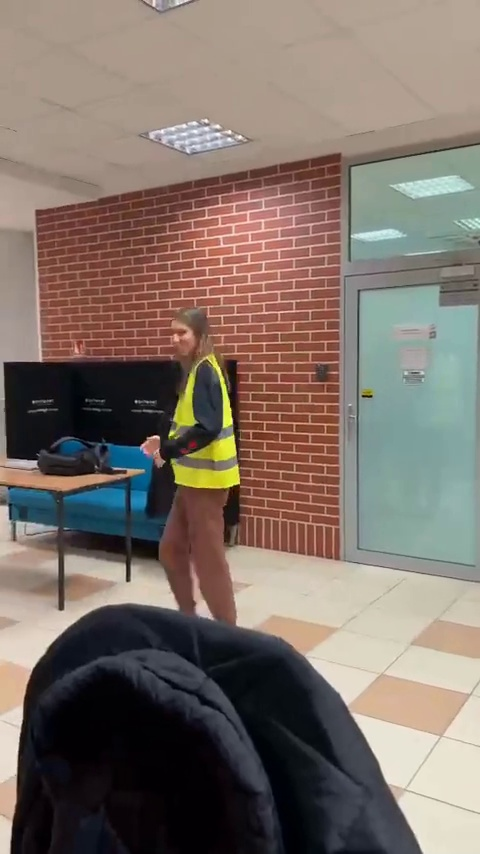vest: (139, 298, 250, 609)
